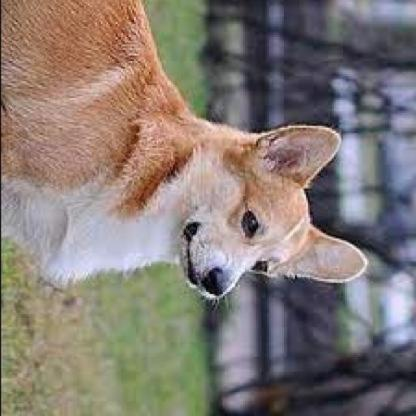dog: (0, 0, 369, 304)
